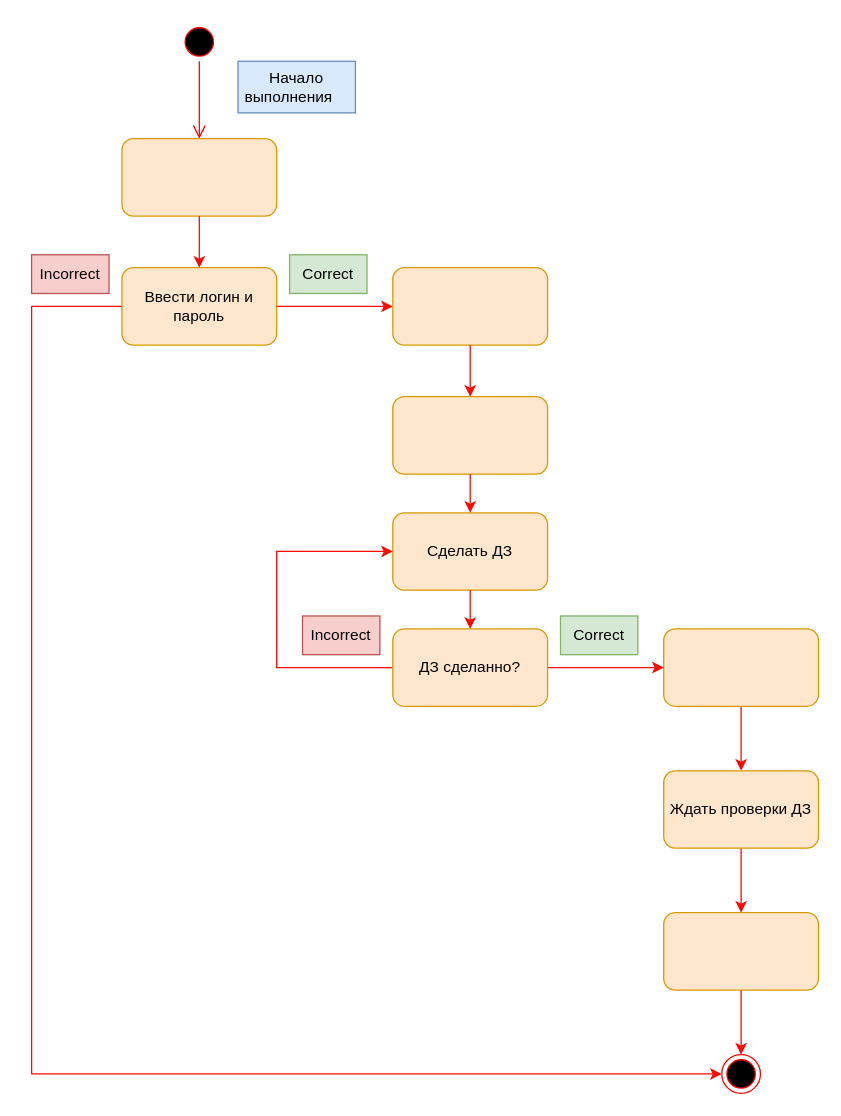
The diagram is 841 pixels wide and 1116 high, and some of its shapes have lost their labels. The centre of each missing label's shape, as x and y in pixels:
"Загрузить на Mystat" belongs at [740,667].
"Открыть сайт Mystat" belongs at [199,176].
"Открыть страницу с ДЗ" belongs at [470,305].
"Отреагировать на оценку" belongs at [740,950].
"Скачать ДЗ" belongs at [470,434].
